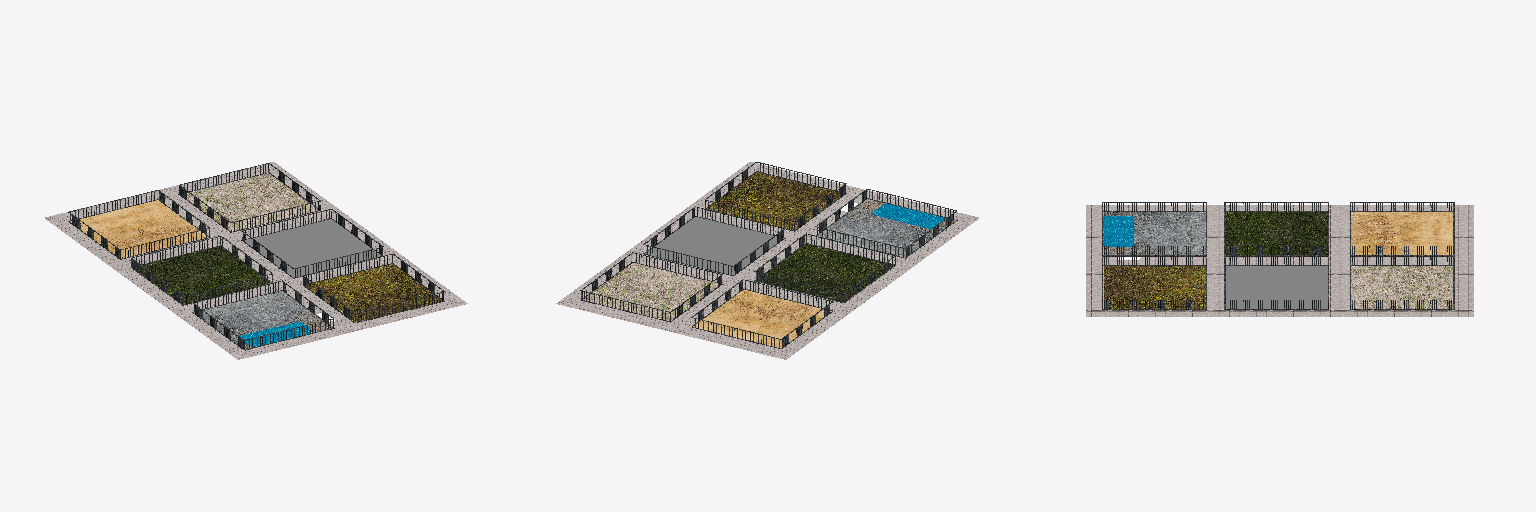
3 renders of one model, left to right at view 1: azimuth 30°, elevation 25°; view 2: azimuth 150°, elevation 25°; view 3: azimuth 270°, elevation 25°, orthographic.
Parts seen in each view (by area): view 1: pPlane1, fence011, Box008, Box004, Box005, Box006, Box003, Box009, pPlane003; view 2: pPlane1, fence011, Box004, Box003, Box005, Box006, Box008, Box009, pPlane003; view 3: pPlane1, fence011, Box008, Box004, Box006, Box003, Box005, Box009, pPlane003.
Part boxes in pixels (x1,y1,x2,y2): pPlane1: (45, 162, 467, 359); fence011: (68, 163, 444, 349); Box008: (308, 264, 441, 322); Box004: (187, 173, 317, 231); Box005: (245, 219, 380, 277); Box006: (70, 200, 208, 258); Box003: (140, 246, 270, 304); Box009: (194, 291, 331, 348); pPlane003: (240, 321, 314, 346); pPlane1: (556, 162, 978, 359); fence011: (580, 162, 957, 348); Box004: (583, 263, 717, 320); Box003: (757, 244, 893, 301); Box005: (645, 217, 783, 274); Box006: (693, 290, 831, 347); Box008: (707, 172, 839, 230); Box009: (818, 199, 955, 257); pPlane003: (871, 203, 945, 228); pPlane1: (1086, 205, 1473, 316); fence011: (1102, 202, 1454, 309); Box008: (1104, 266, 1205, 308); Box004: (1351, 266, 1452, 308); Box006: (1351, 212, 1452, 254); Box003: (1226, 212, 1327, 254); Box005: (1226, 266, 1327, 308); Box009: (1104, 212, 1205, 254); pPlane003: (1103, 216, 1133, 246).
Size of the model in its own units: 3250 by 131 by 4750.
9 materials, 8 textured.